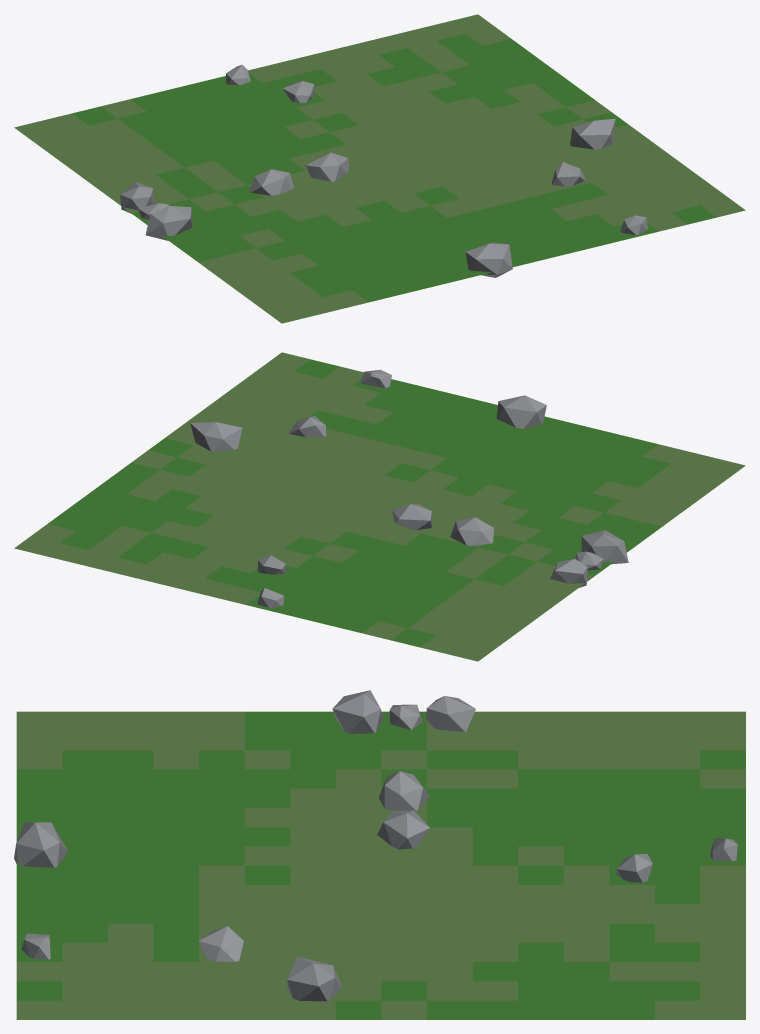
File: chunk_10_2.glb
3 views of the same model, one above another, from view 1: azimuth 30°, elevation 25°; view 2: azimuth 150°, elevation 25°; view 3: azimuth 270°, elevation 25° (orthographic). The views are drawn at different scales.
Visible parts, largest first — view 1: chunk_10_2; view 2: chunk_10_2; view 3: chunk_10_2.
Boxes of the visible parts, x1,y1,x2,y2 form: chunk_10_2: [14, 14, 745, 323]; chunk_10_2: [14, 352, 745, 661]; chunk_10_2: [14, 690, 745, 1019].
Bounding box in the file's own units: 16.33 × 1.17 × 16.06.
